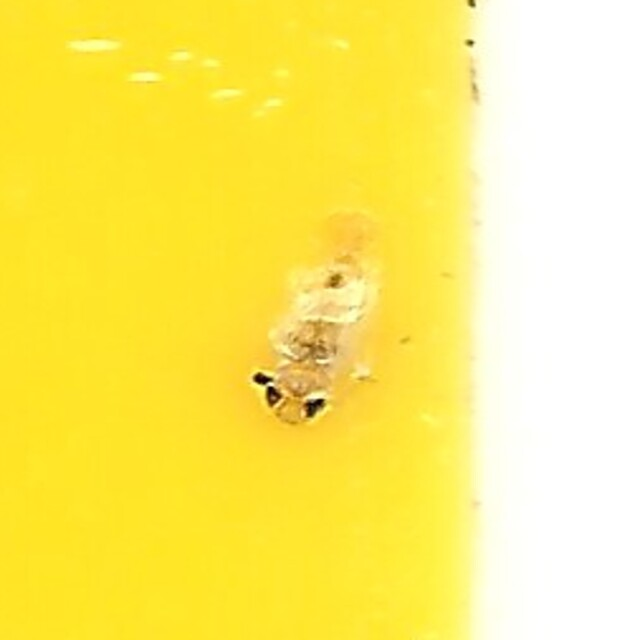Hemiptera: (253, 208, 387, 432)
